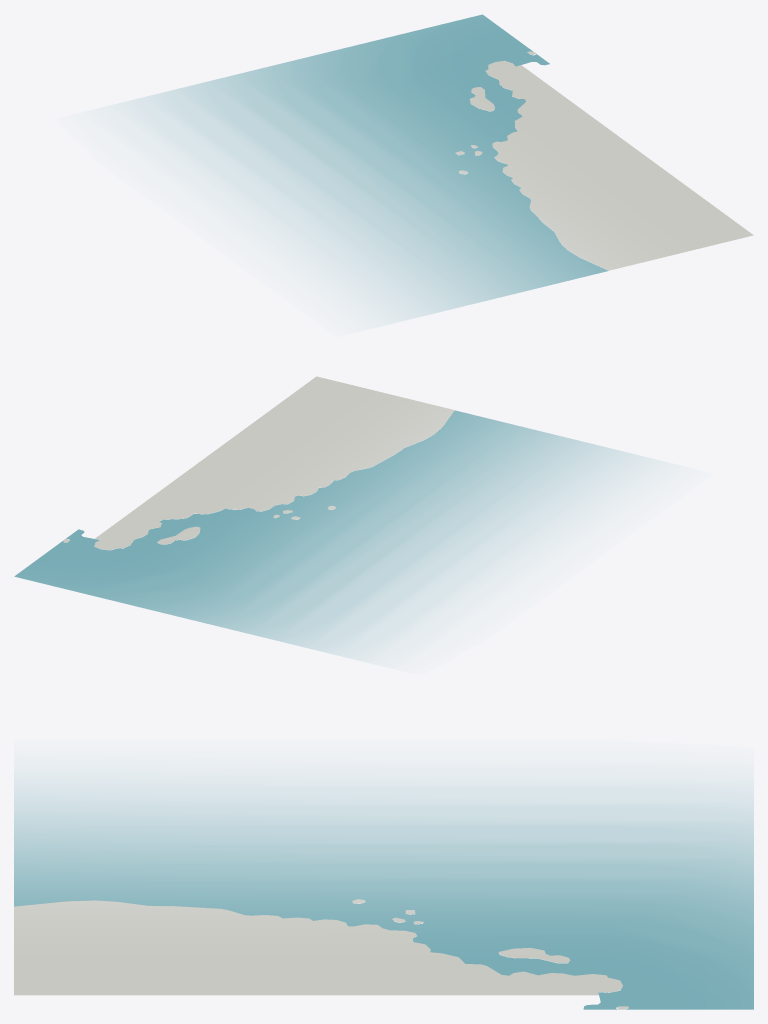
3 renders of one model, top to bottom at view 1: azimuth 30°, elevation 25°; view 2: azimuth 150°, elevation 25°; view 3: azimuth 270°, elevation 25°, orthographic. The views are drawn at different scales.
Parts seen in each view (by area): view 1: city; view 2: city; view 3: city.
Boxes of the visible parts, bbox=[...] form: city: bbox=[119, 14, 753, 321]; city: bbox=[14, 376, 655, 660]; city: bbox=[14, 776, 753, 1009].
Bounding box in the file's own units: 473 × 0.18 × 500.
